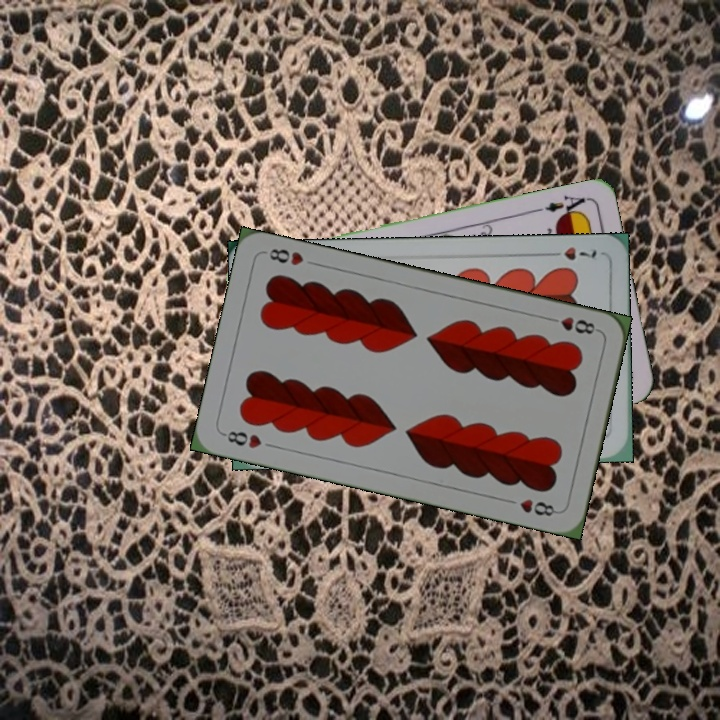EA: (541, 191, 590, 221)
H7: (543, 242, 599, 263)
H8: (543, 313, 602, 337), (219, 427, 265, 451)
